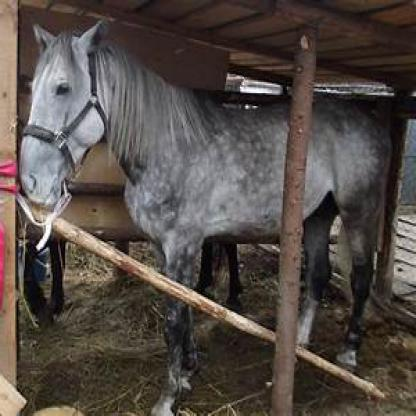horse: (11, 16, 395, 389)
